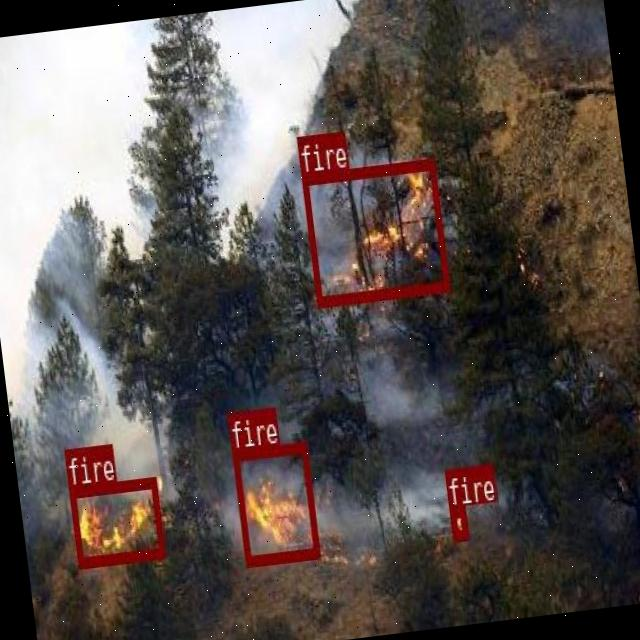fire: (300, 157, 449, 306), (232, 442, 320, 564), (68, 474, 164, 568), (448, 503, 468, 538)
